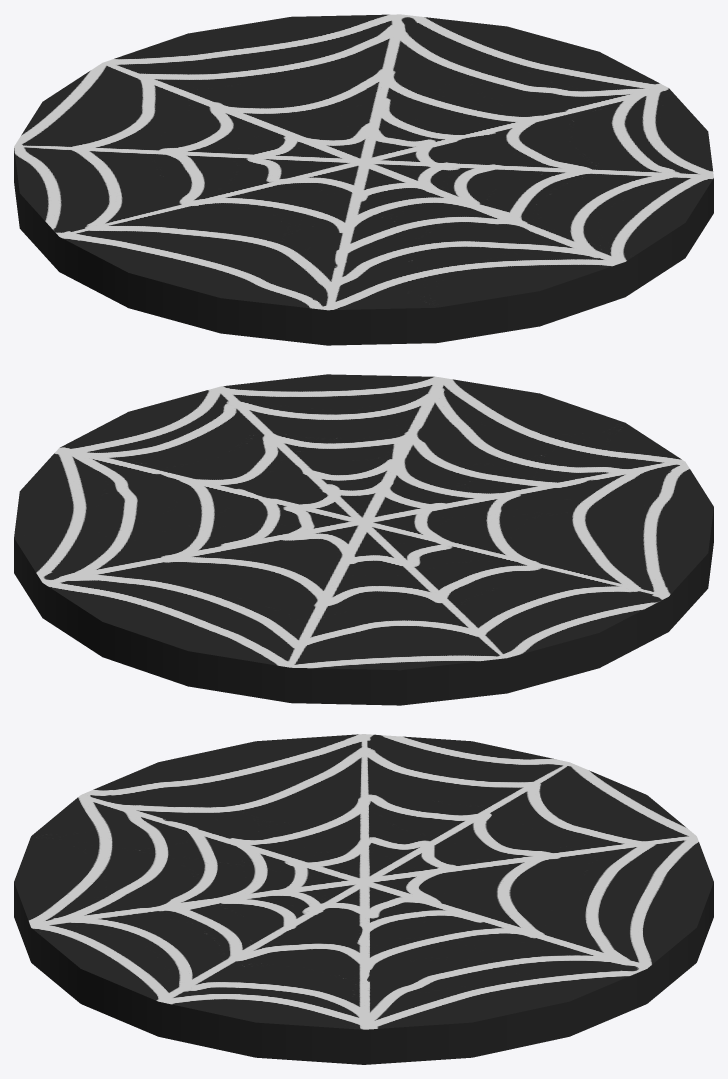
File: RUG_WEB.fbx
The picture shows the model from 3 angles, top to bottom: view 1: azimuth 30°, elevation 25°; view 2: azimuth 150°, elevation 25°; view 3: azimuth 270°, elevation 25°; orthographic projection.
Visible parts, largest first — view 1: rug_finished; view 2: rug_finished; view 3: rug_finished.
Part boxes in pixels (left/top/right/bottom): rug_finished: left=14, top=14, right=713, bottom=345; rug_finished: left=14, top=374, right=713, bottom=705; rug_finished: left=14, top=734, right=713, bottom=1064.
Bounding box in the file's own units: 309 × 17.1 × 309.
